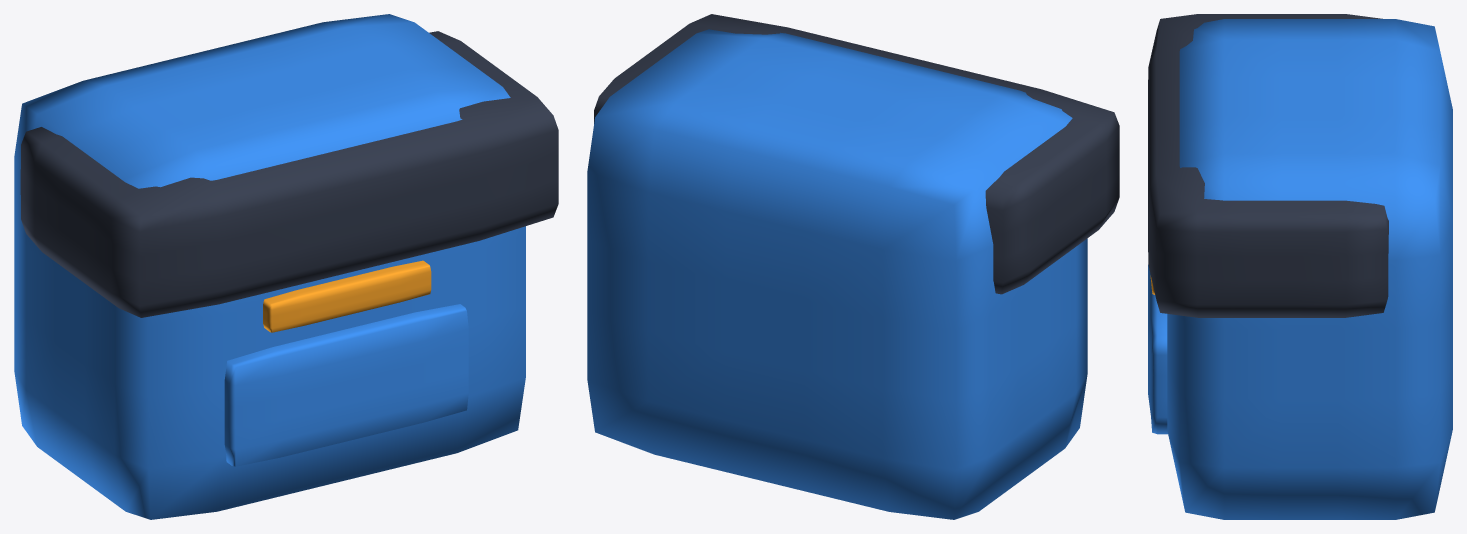
The model's file is torso_anvil.obj.
3 views of the same model, side by side, from view 1: azimuth 30°, elevation 25°; view 2: azimuth 150°, elevation 25°; view 3: azimuth 270°, elevation 25° (orthographic). The views are drawn at different scales.
Bounding box in the file's own units: 1.02 × 0.8 × 0.64.
